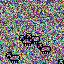sheep: (6, 51, 20, 64), (19, 35, 33, 47), (26, 33, 40, 44), (37, 43, 51, 54), (58, 59, 64, 64)
